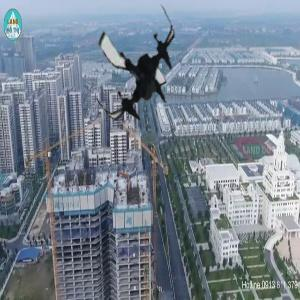drone: (79, 7, 194, 122)
